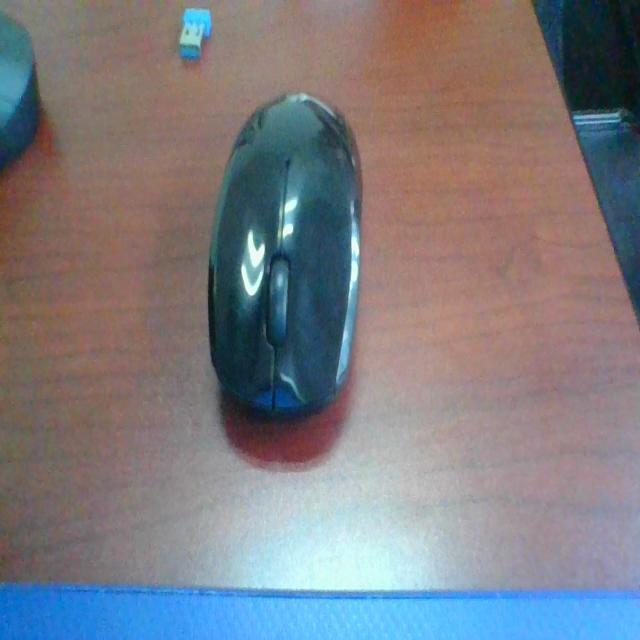mouse: (204, 84, 395, 426)
